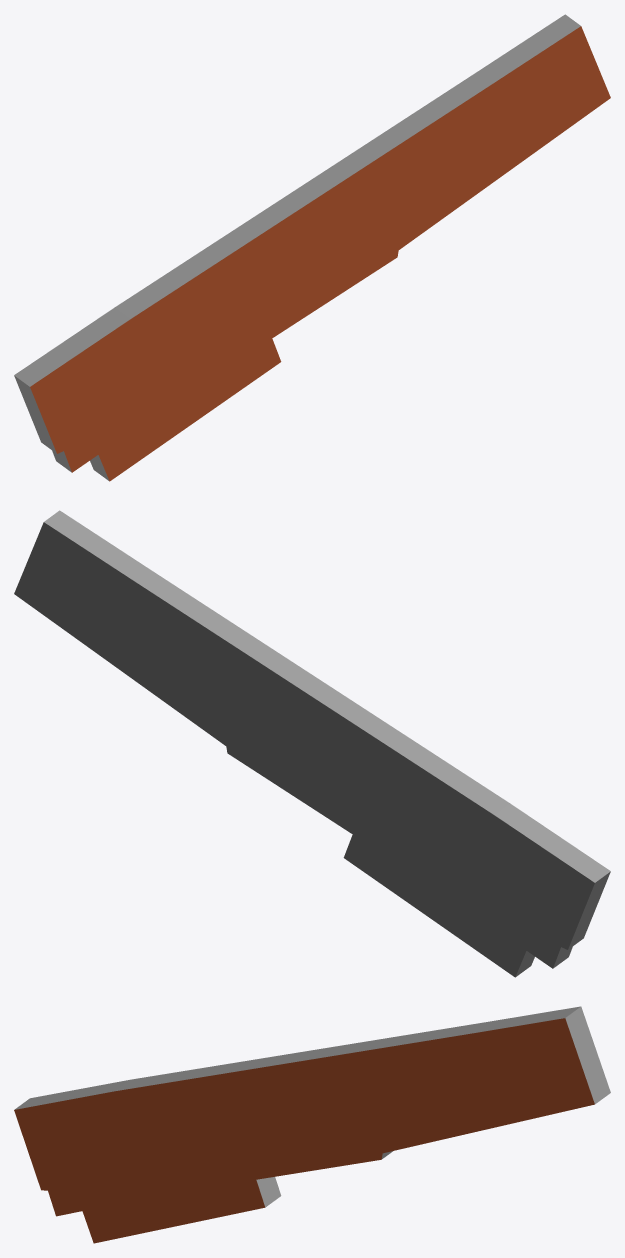
Rendered from construction_0765_assumed_A_Casa_h6m.obj.
3 renders of one model, top to bottom at view 1: azimuth 30°, elevation 25°; view 2: azimuth 150°, elevation 25°; view 3: azimuth 330°, elevation 25°, orthographic.
Visible parts, largest first — view 1: construction_0765_assumed_A_Casa; view 2: construction_0765_assumed_A_Casa; view 3: construction_0765_assumed_A_Casa.
Part boxes in pixels (left/top/right/bottom): construction_0765_assumed_A_Casa: left=14, top=14, right=610, bottom=481; construction_0765_assumed_A_Casa: left=14, top=510, right=610, bottom=977; construction_0765_assumed_A_Casa: left=14, top=1006, right=610, bottom=1243.
Bounding box in the file's own units: 126 × 70.53 × 6.
